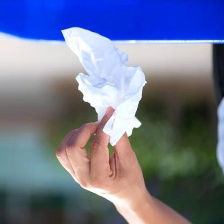plastic_box: (0, 0, 224, 49)
tissue: (55, 22, 152, 149)
